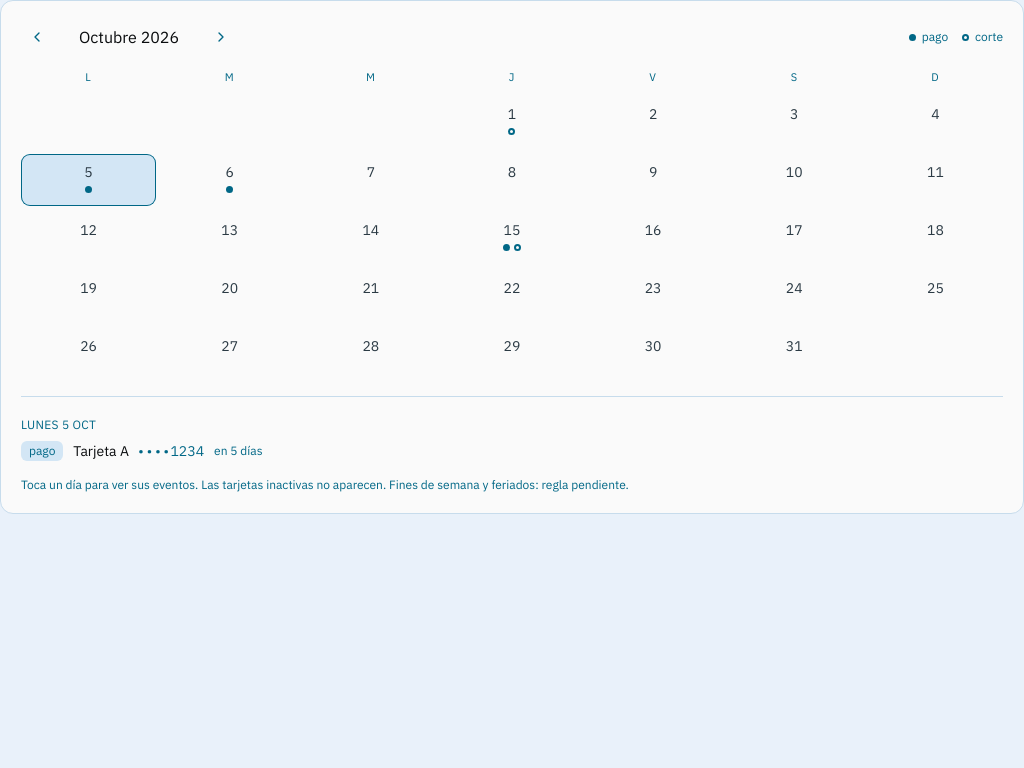
Test: CalendarioPagos · selección y detalle › un día con varios eventos los lista todos
Step 1. Click the cell named "15 de octubre, 1 pago y 1 corte" → (512, 236), box [503,220,521,250]
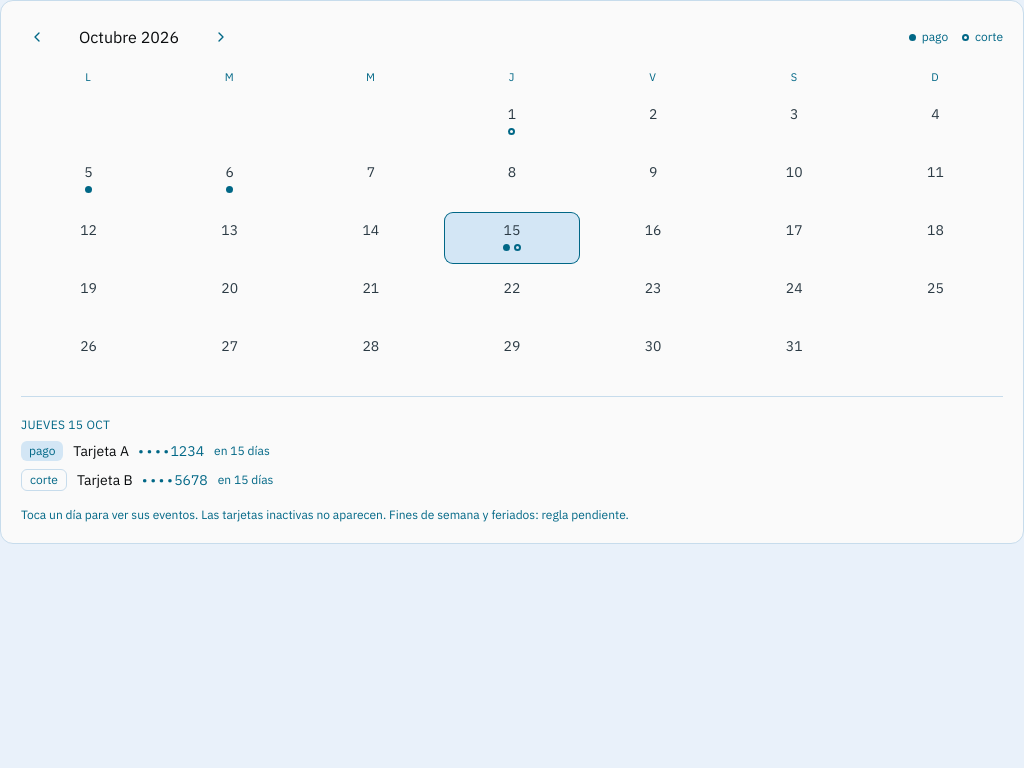
Expected: the list item "pago Tarjeta A••••1234 en 15 días" is shown, [21,440,270,460]
Expected: the list item "corte Tarjeta B••••5678 en 15 días" is shown, [21,468,274,490]
